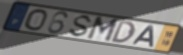6: (46, 11, 69, 35)
A: (131, 25, 155, 48)
D: (110, 20, 137, 44)
M: (85, 16, 121, 44)
O: (23, 8, 49, 32)
S: (67, 14, 94, 39)
